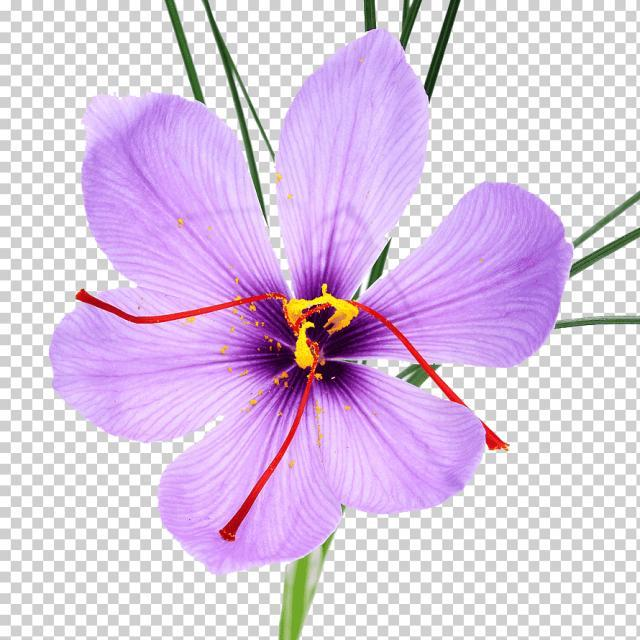Flower: (51, 29, 568, 572)
stigma: (353, 302, 514, 458), (216, 342, 324, 546), (75, 286, 288, 327)
